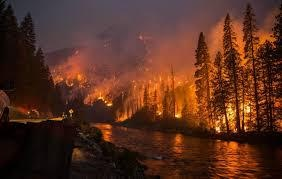fire: (96, 93, 112, 106)
